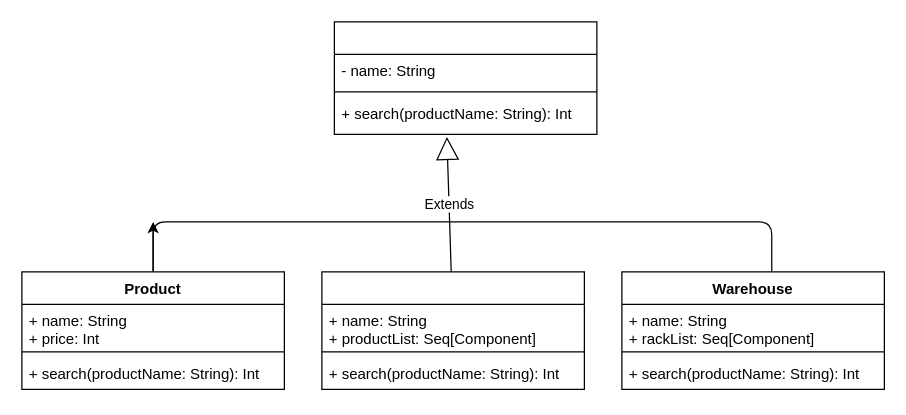
The diagram is 906 pixels wide and 415 high, and some of its shapes have lost their labels. Here are the shapes that lost their labels. From the top down, the box of each, then its label:
(333, 21, 597, 134): Component
(321, 271, 584, 389): Rack
